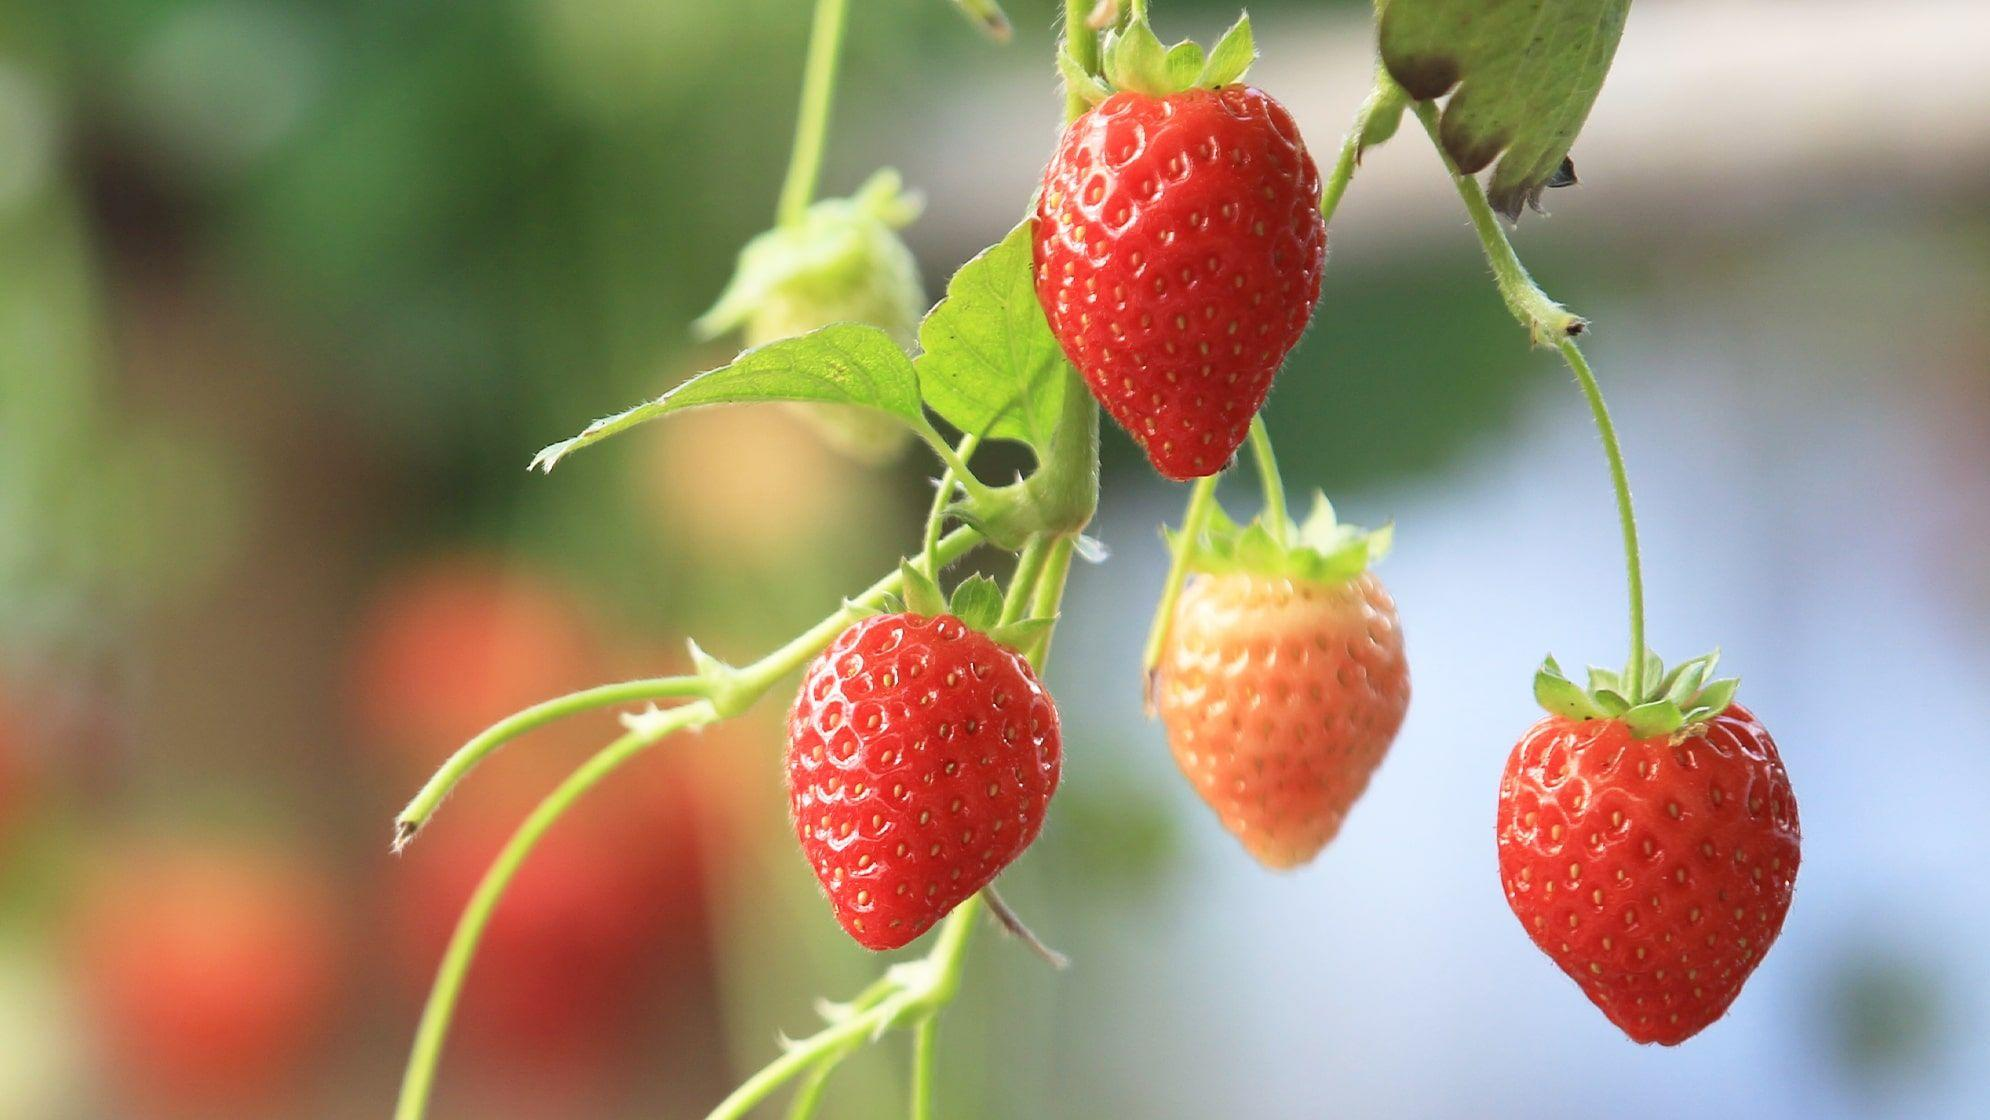strawberry: (1018, 15, 1363, 481), (1480, 644, 1811, 1069), (782, 557, 1082, 955), (1148, 513, 1412, 882)
